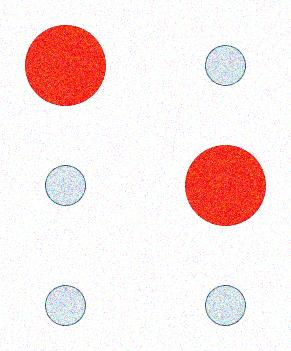E: (17, 18, 273, 335)
